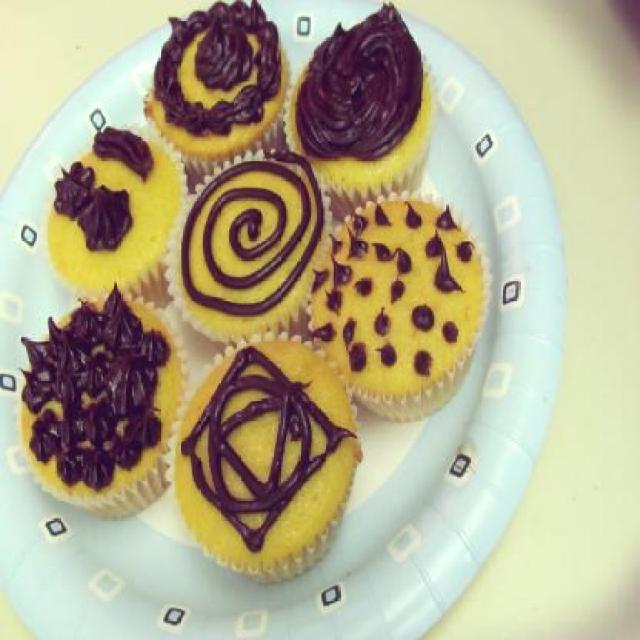Muffin: (11, 0, 494, 591)
